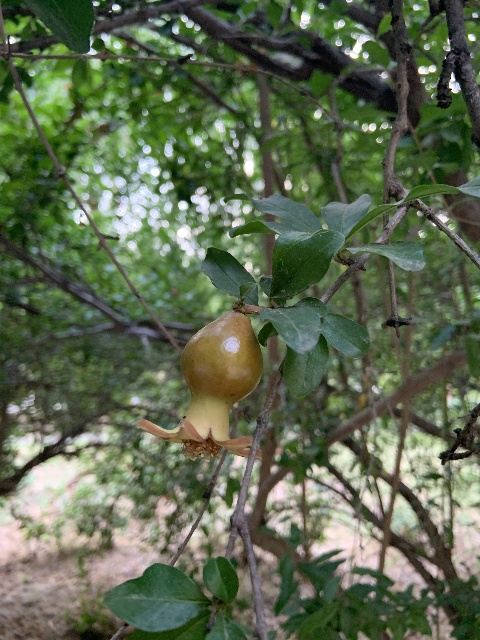early-fruit: (137, 313, 264, 464)
